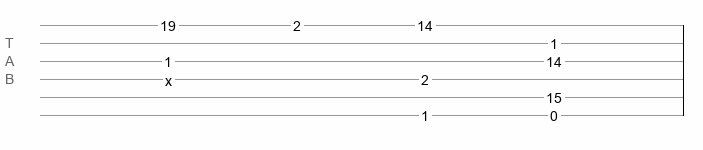0: (550, 108, 558, 118)
1: (164, 54, 172, 64), (421, 108, 429, 118), (550, 36, 558, 46)
14: (417, 18, 433, 28), (546, 54, 562, 64)
15: (546, 90, 562, 100)
19: (160, 18, 176, 28)
2: (293, 18, 301, 28), (421, 72, 429, 82)
x: (165, 73, 172, 81)
